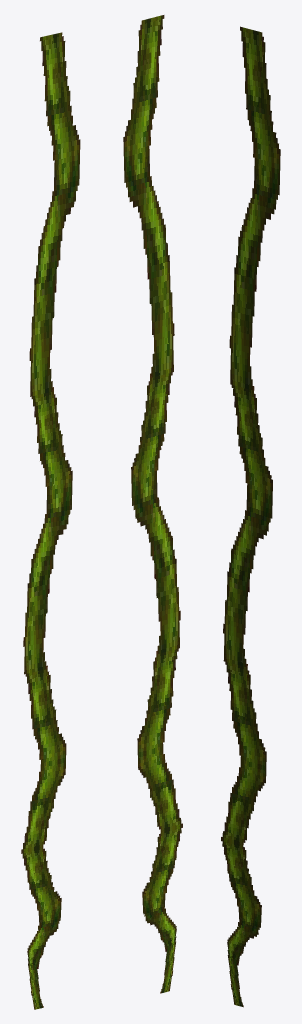
Rendered from vine.glb.
3 views of the same model, side by side, from view 1: azimuth 30°, elevation 25°; view 2: azimuth 210°, elevation 25°; view 3: azimuth 330°, elevation 25° (orthographic).
Parts seen in each view (by area): view 1: vine1; view 2: vine1; view 3: vine1.
Boxes of the visible parts, <box> form: vine1: <box>21,32,80,1009</box>; vine1: <box>123,15,182,993</box>; vine1: <box>221,26,280,1007</box>.
Bounding box in the file's own units: 3.76 × 50.55 × 2.45.
1 material, 1 textured.
